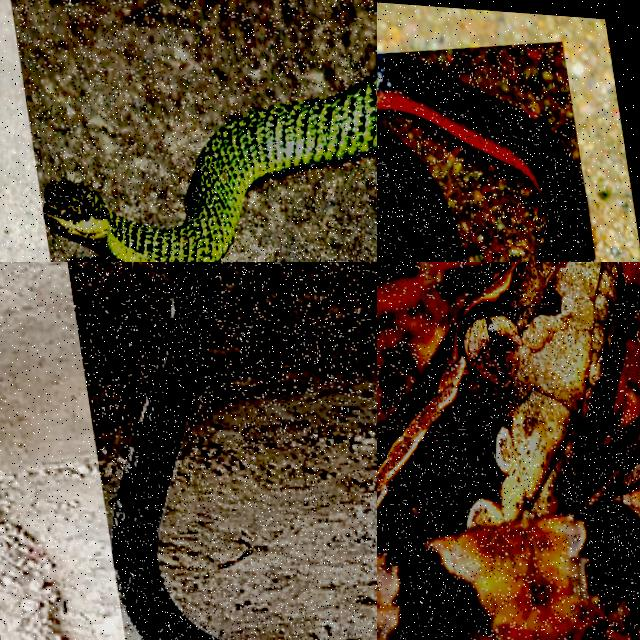Calliophis intestinalis: (377, 54, 590, 261)
Calloselasma rhodostoma: (377, 262, 639, 639)
Chrysopelea ornata: (44, 67, 376, 261)
Ophiophagus hannah: (112, 262, 221, 639)
